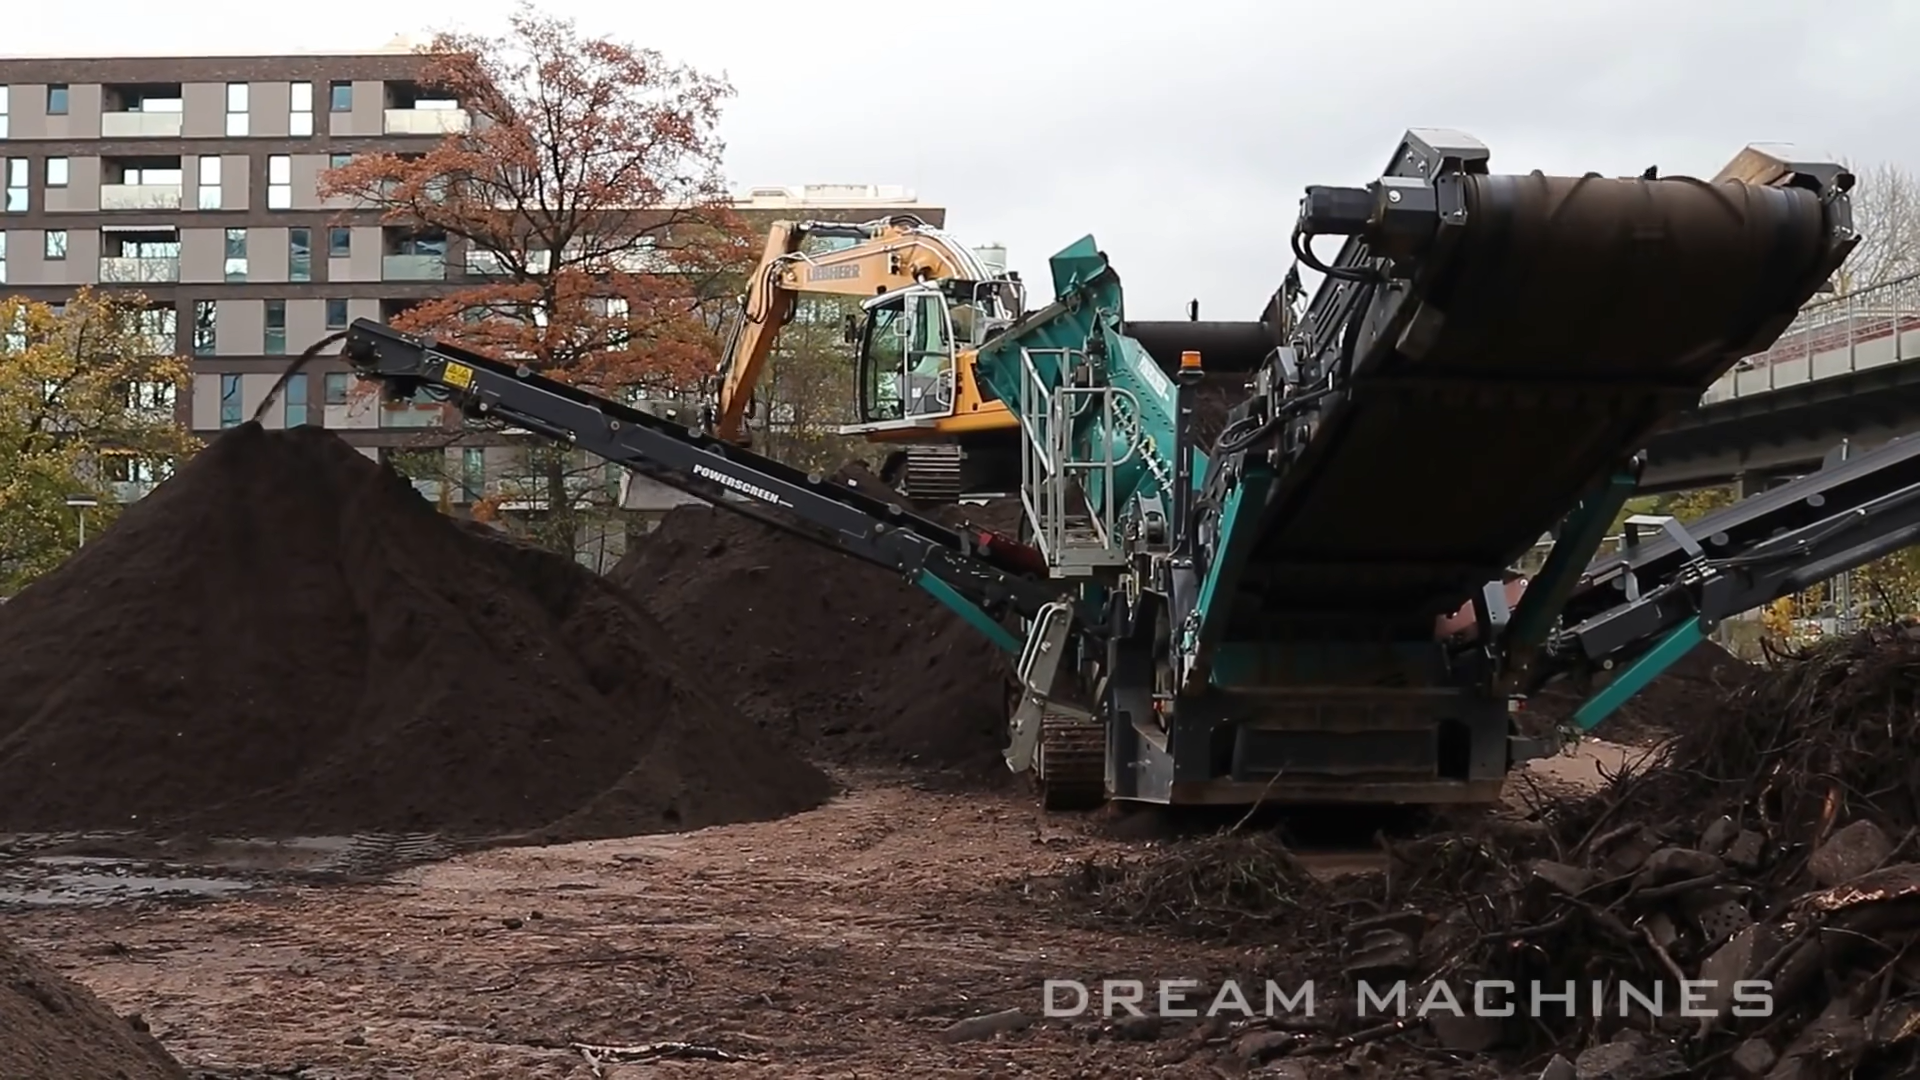excavator: (680, 198, 1036, 533)
